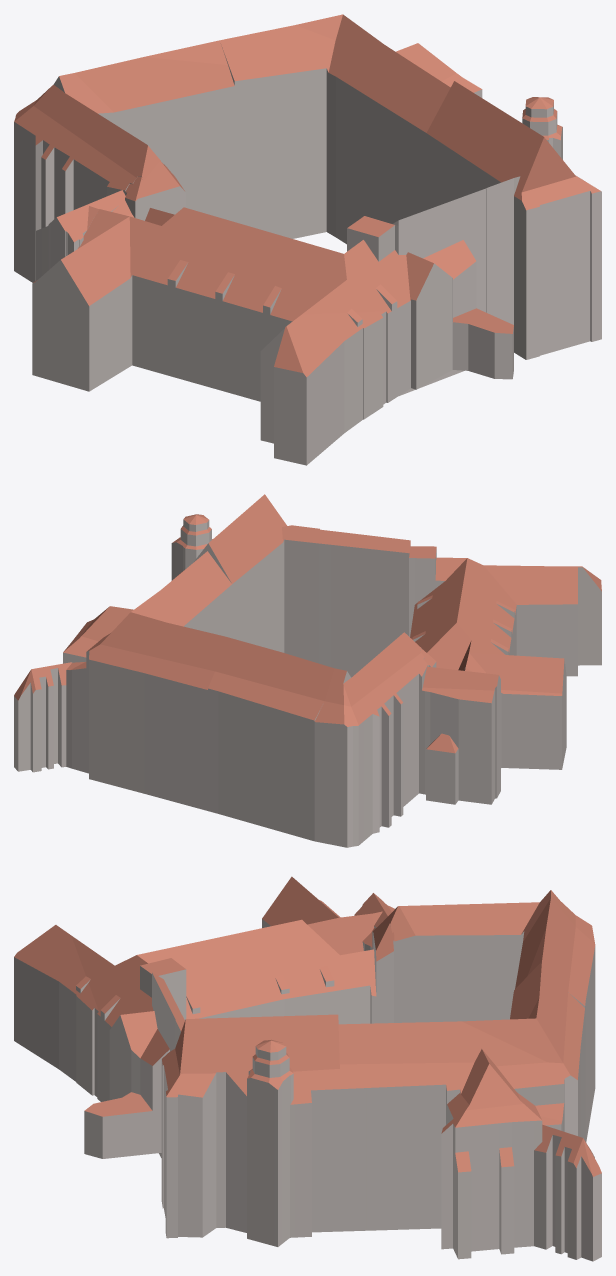
Rendered from wawel-castle.glb.
3 renders of one model, top to bottom at view 1: azimuth 30°, elevation 25°; view 2: azimuth 150°, elevation 25°; view 3: azimuth 270°, elevation 25°, orthographic. The views are drawn at different scales.
Visible parts, largest first — view 1: Wawel Royal Castle; view 2: Wawel Royal Castle; view 3: Wawel Royal Castle.
Boxes of the visible parts, <box> form: Wawel Royal Castle: <box>14,14,601,465</box>; Wawel Royal Castle: <box>14,494,601,847</box>; Wawel Royal Castle: <box>14,876,601,1261</box>.
Bounding box in the file's own units: 128 × 46.73 × 126.
